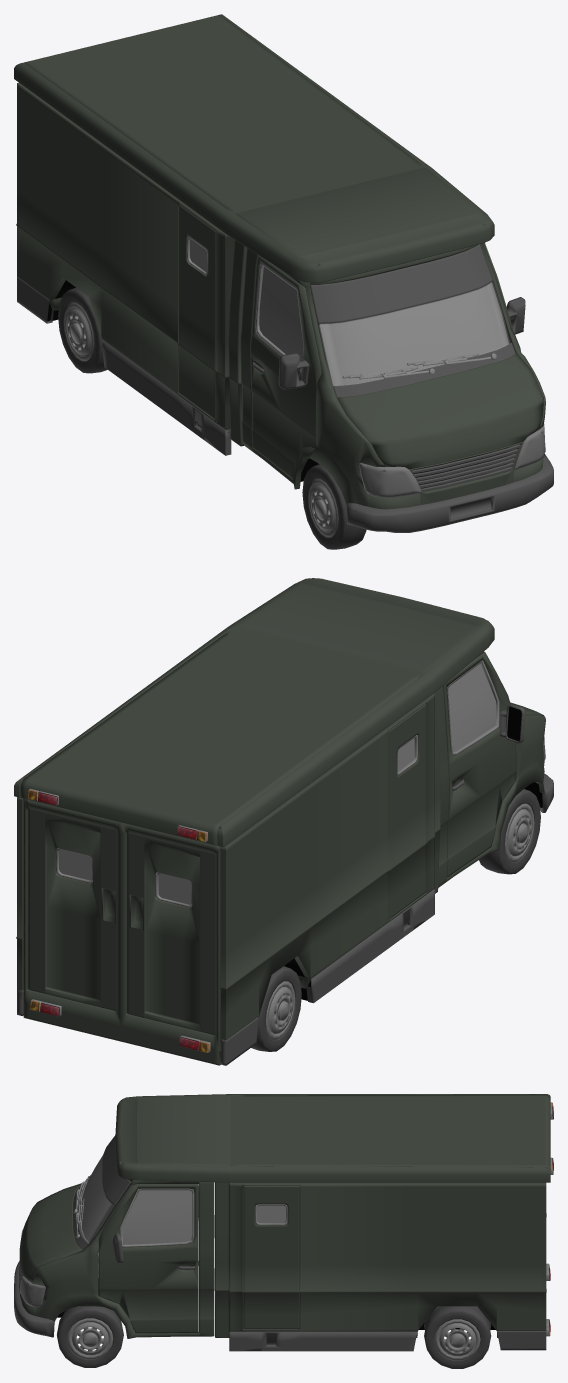
Rendered from MoneyTruckExported.fbx.
3 renders of one model, top to bottom at view 1: azimuth 30°, elevation 25°; view 2: azimuth 150°, elevation 25°; view 3: azimuth 270°, elevation 25°, orthographic. The views are drawn at different scales.
Visible parts, largest first — view 1: SubD, subD_RAD_V, subD_RAD_H, subD_4; view 2: SubD, subD_RAD_V, subD_RAD_H; view 3: SubD, subD_RAD_H, subD_RAD_0, subD_4.
Part boxes in pixels (x1,y1,x2,y2): SubD: (14, 14, 553, 532); subD_RAD_V: (302, 464, 366, 549); subD_RAD_H: (58, 287, 107, 373); subD_4: (342, 353, 491, 379); SubD: (14, 578, 553, 1065); subD_RAD_V: (479, 789, 540, 874); subD_RAD_H: (251, 966, 301, 1051); SubD: (14, 1094, 553, 1351); subD_RAD_H: (424, 1306, 491, 1368); subD_RAD_0: (57, 1306, 123, 1367); subD_4: (75, 1176, 89, 1233).
Bounding box in the file's own units: 1.87 × 1.95 × 4.72.
15 materials, 2 textured.
